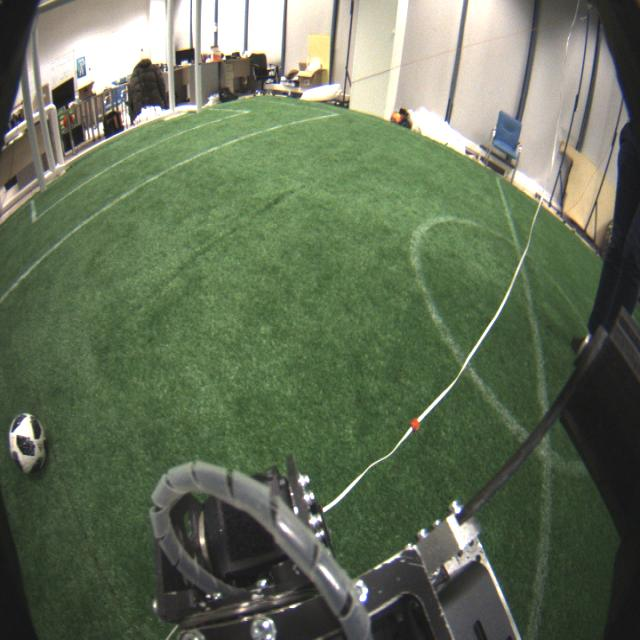ball: (9, 412, 47, 478)
goalpost: (16, 57, 48, 194), (192, 2, 204, 113)
